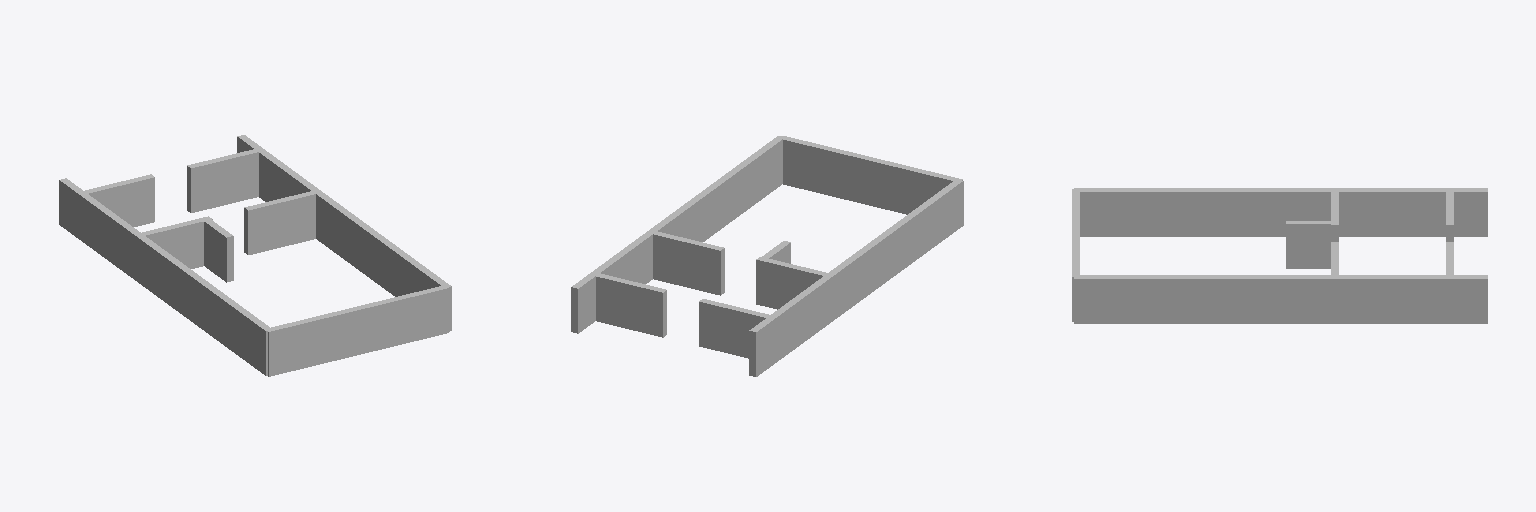
Rendered from Level1Walls.obj.
3 views of the same model, side by side, from view 1: azimuth 30°, elevation 25°; view 2: azimuth 150°, elevation 25°; view 3: azimuth 270°, elevation 25° (orthographic).
Parts seen in each view (by area): view 1: Level1Walls; view 2: Level1Walls; view 3: Level1Walls.
Boxes of the visible parts, x1=… form: Level1Walls: x1=59, y1=135, x2=451, y2=376; Level1Walls: x1=571, y1=136, x2=963, y2=376; Level1Walls: x1=1072, y1=188, x2=1487, y2=323.
Bounding box in the file's own units: 12.94 × 3 × 25.2.